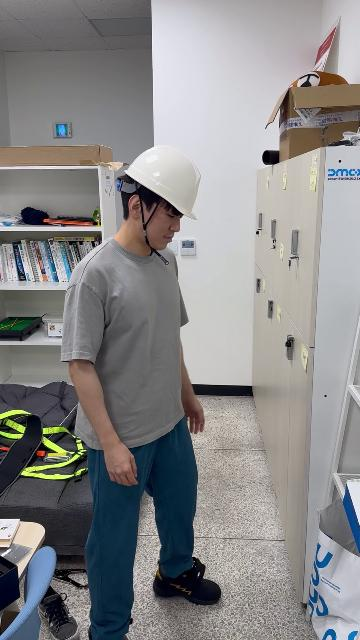helmet_worn: (116, 143, 201, 222)
shoe_worn: (154, 566, 222, 607)
vest_not_worn: (82, 241, 188, 444)
